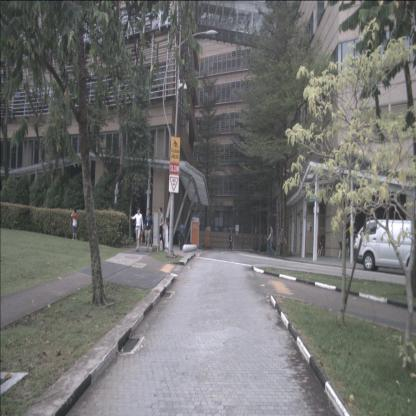human-pedestrian-adult: (130, 205, 144, 252), (142, 208, 154, 254), (156, 206, 166, 254), (266, 223, 277, 260), (278, 226, 287, 258), (163, 215, 171, 251), (149, 213, 157, 247), (178, 219, 186, 252), (228, 231, 234, 253)
vehicle-car: (354, 220, 416, 277)
